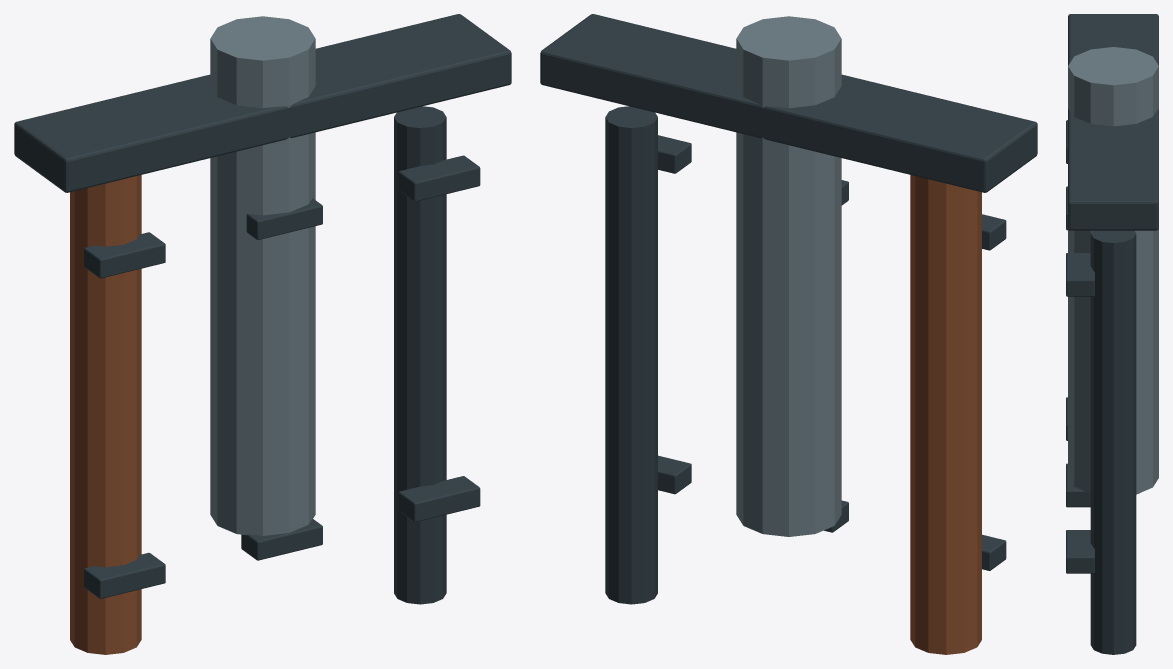
Rendered from service_pipe_rack.glb.
3 renders of one model, left to right at view 1: azimuth 30°, elevation 25°; view 2: azimuth 150°, elevation 25°; view 3: azimuth 270°, elevation 25°, orthographic. The views are drawn at different scales.
Visible parts, largest first — view 1: Vertical service pipe.001, Pipe tray, Vertical service pipe, Vertical service pipe.002, Pipe bracket.005, Pipe bracket.004, Pipe bracket.001, Pipe bracket, Pipe bracket.002, Pipe bracket.003; view 2: Vertical service pipe.001, Pipe tray, Vertical service pipe, Vertical service pipe.002, Pipe bracket.004, Pipe bracket.005, Pipe bracket, Pipe bracket.001; view 3: Vertical service pipe.002, Vertical service pipe.001, Pipe tray, Pipe bracket.005, Pipe bracket.004, Pipe bracket.002.
Part boxes in pixels (left/top/right/bottom): Vertical service pipe.001: left=210, top=16, right=315, bottom=535; Pipe tray: left=14, top=14, right=511, bottom=192; Vertical service pipe: left=70, top=175, right=141, bottom=654; Vertical service pipe.002: left=394, top=106, right=446, bottom=604; Pipe bracket.005: left=398, top=155, right=480, bottom=201; Pipe bracket.004: left=398, top=476, right=480, bottom=522; Pipe bracket.001: left=84, top=232, right=165, bottom=278; Pipe bracket: left=84, top=552, right=165, bottom=598; Pipe bracket.002: left=241, top=518, right=322, bottom=560; Pipe bracket.003: left=246, top=198, right=322, bottom=239; Vertical service pipe.001: left=736, top=16, right=841, bottom=536; Pipe tray: left=540, top=14, right=1037, bottom=192; Vertical service pipe: left=910, top=175, right=981, bottom=654; Vertical service pipe.002: left=605, top=106, right=657, bottom=604; Pipe bracket.004: left=658, top=455, right=691, bottom=494; Pipe bracket.005: left=658, top=135, right=691, bottom=173; Pipe bracket: left=982, top=534, right=1006, bottom=570; Pipe bracket.001: left=982, top=214, right=1006, bottom=250; Vertical service pipe.002: left=1090, top=230, right=1136, bottom=654; Vertical service pipe.001: left=1068, top=47, right=1158, bottom=494; Pipe tray: left=1068, top=14, right=1158, bottom=230; Pipe bracket.005: left=1066, top=253, right=1094, bottom=296; Pipe bracket.004: left=1066, top=530, right=1094, bottom=573; Pipe bracket.002: left=1066, top=463, right=1090, bottom=507.
Size of the model in its own units: 1.08 by 1.37 by 0.225.
